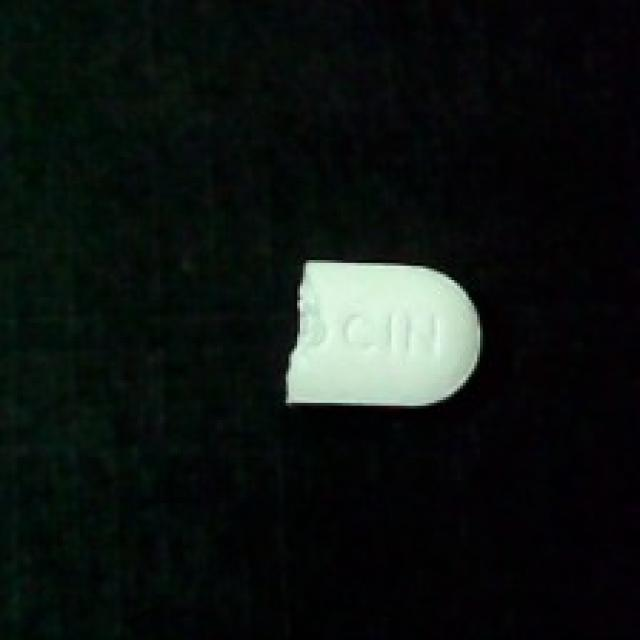defected: (283, 251, 483, 411)
